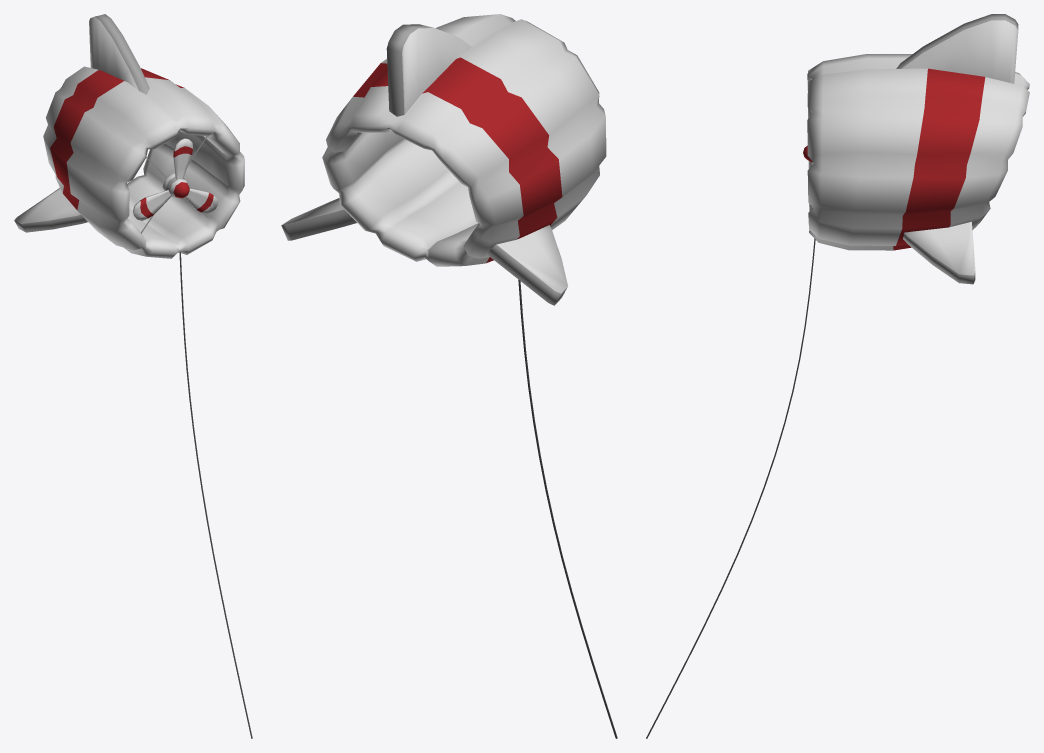
The model's file is Blimp.fbx.
The picture shows the model from 3 angles, left to right: view 1: azimuth 30°, elevation 25°; view 2: azimuth 150°, elevation 25°; view 3: azimuth 270°, elevation 25°; orthographic projection. The views are drawn at different scales.
Parts seen in each view (by area): view 1: Blimp; view 2: Blimp; view 3: Blimp.
Part boxes in pixels (x1=…): Blimp: x1=14, y1=14, x2=252, y2=738; Blimp: x1=281, y1=14, x2=617, y2=738; Blimp: x1=646, y1=14, x2=1029, y2=738.
Bounding box in the file's own units: 950 × 2800 × 1350.
